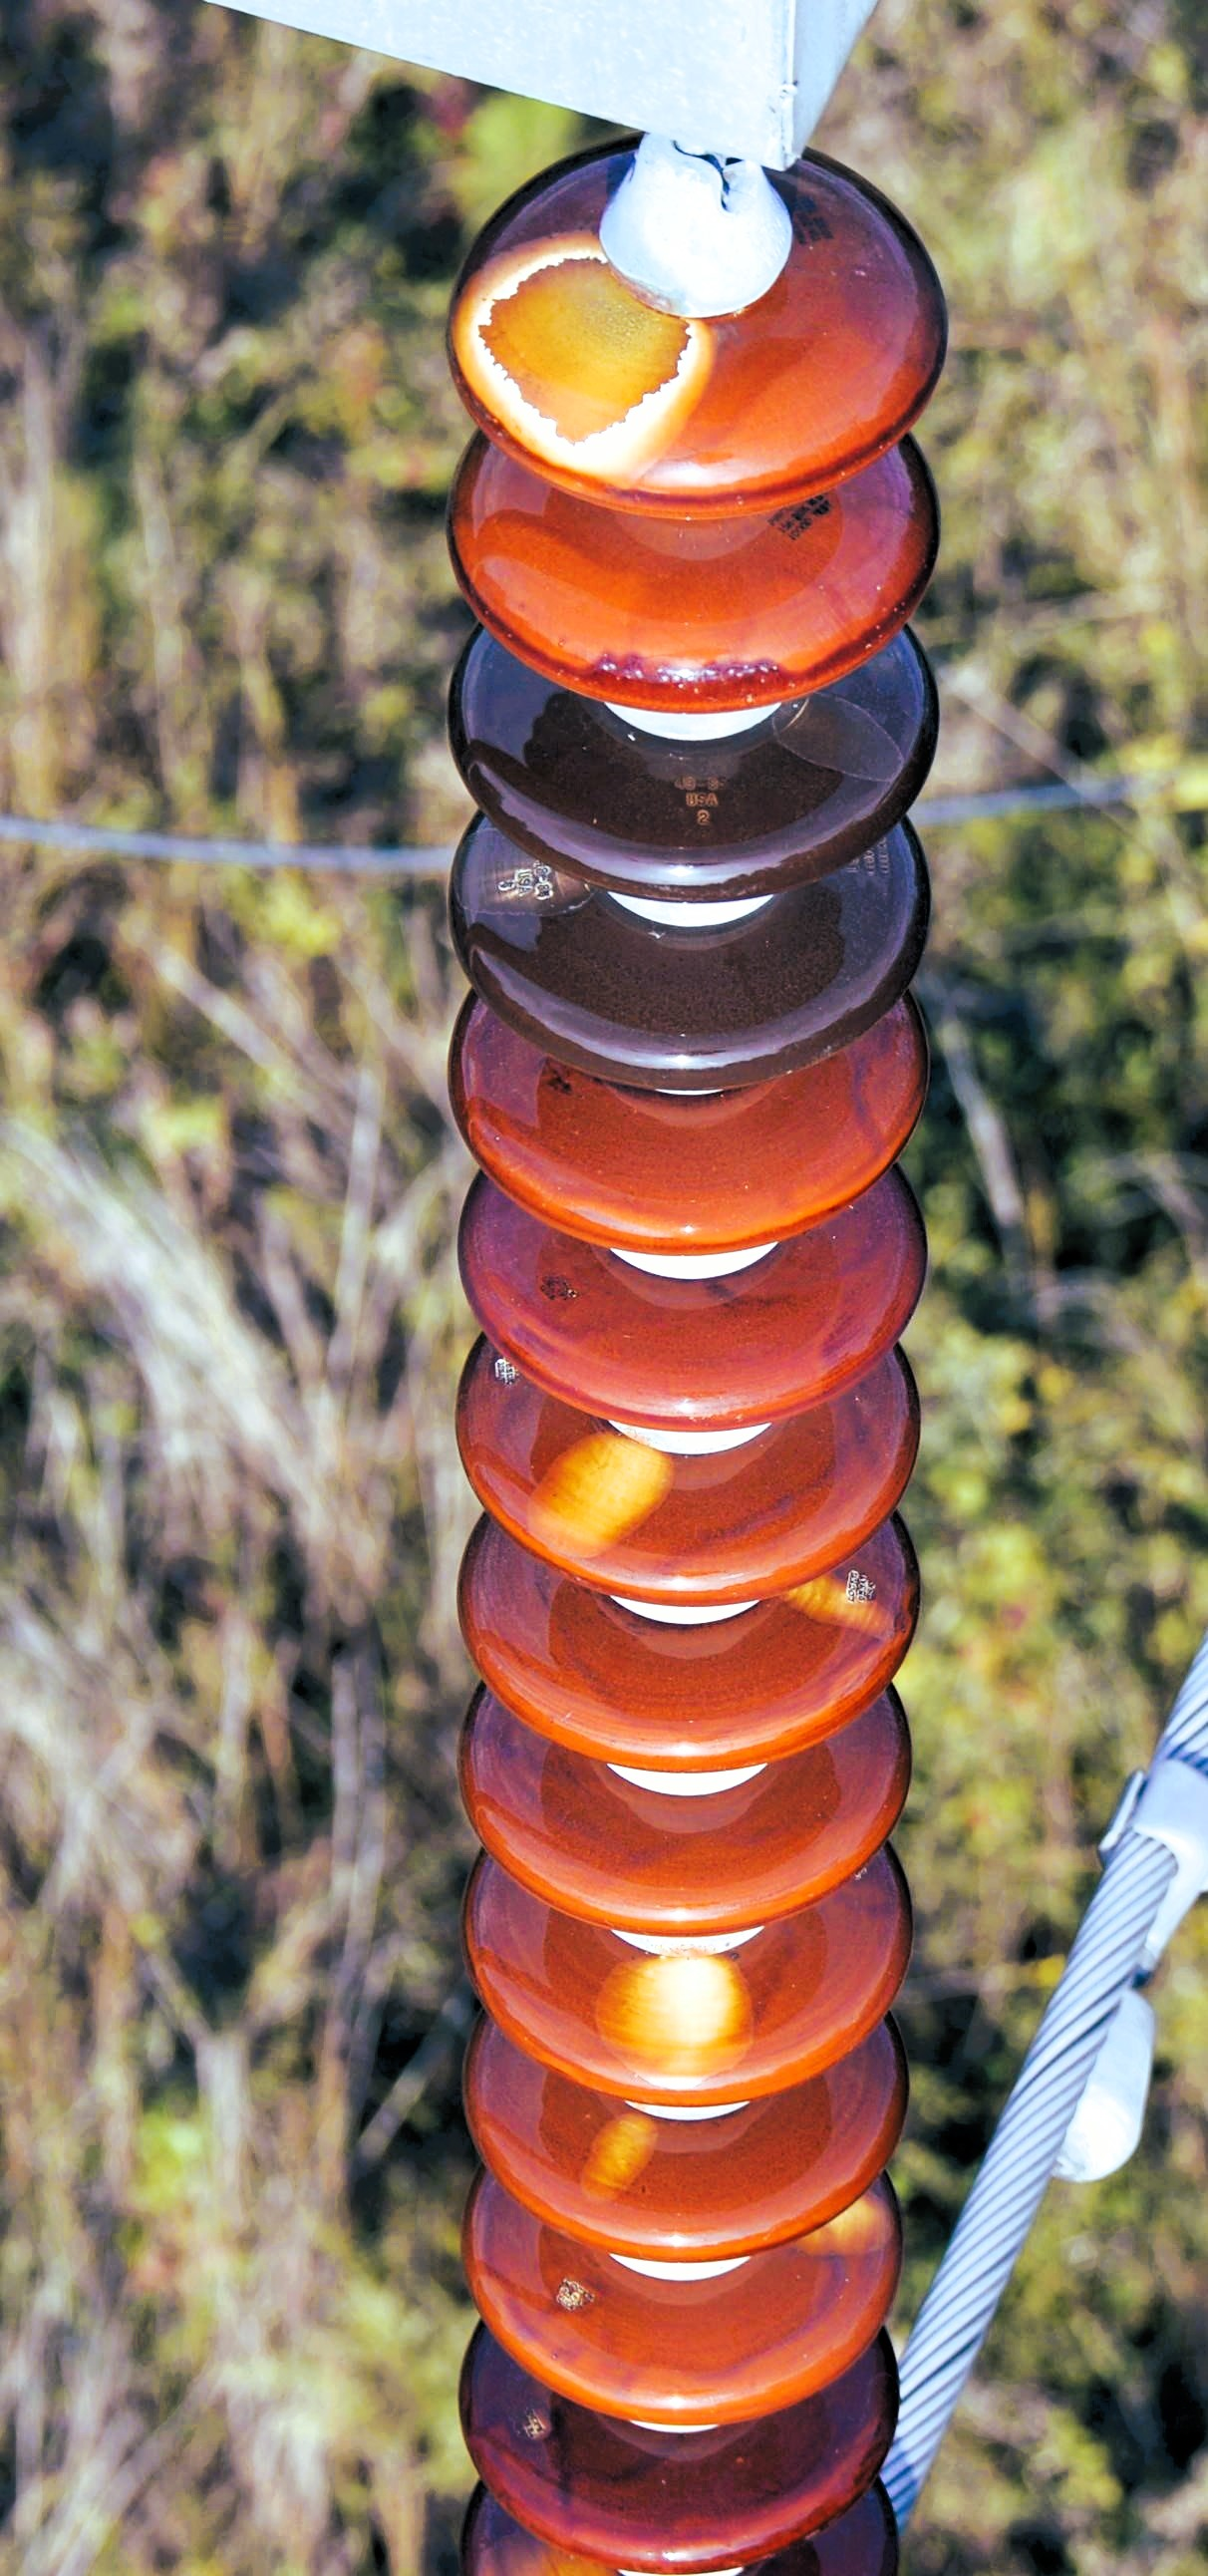Insulator flashover: (427, 136, 958, 521), (445, 1898, 915, 2257), (445, 1339, 934, 1681)
